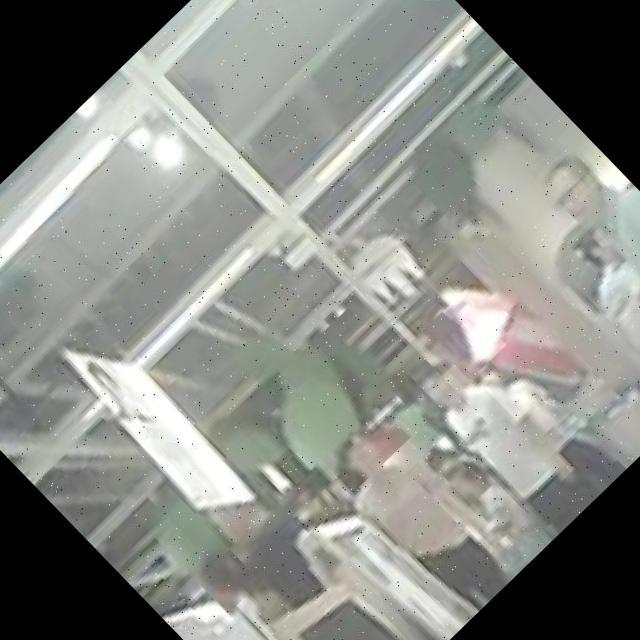person: (316, 407, 529, 624), (407, 332, 612, 542), (527, 133, 640, 383)
